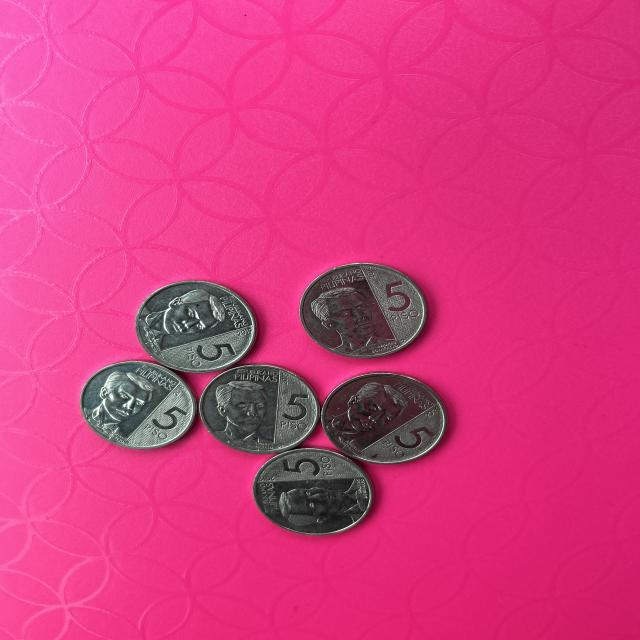5_New_Front: (371, 266, 428, 338), (181, 336, 252, 372), (272, 383, 324, 432), (273, 451, 342, 485), (384, 422, 436, 465), (142, 402, 191, 442)
